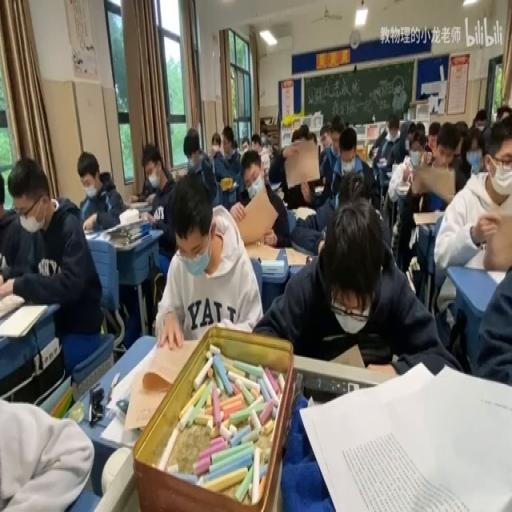calculator: (300, 358, 511, 510), (126, 333, 204, 428), (0, 304, 48, 340), (100, 408, 138, 450), (462, 242, 510, 274), (325, 342, 365, 368), (50, 386, 72, 420), (280, 245, 310, 266), (365, 362, 397, 378), (259, 256, 286, 274), (411, 209, 440, 225), (291, 206, 317, 222), (483, 268, 508, 284), (84, 227, 105, 239), (127, 199, 152, 209), (274, 186, 284, 200), (390, 162, 398, 176), (314, 184, 324, 194)
paper: (254, 188, 458, 384), (0, 156, 104, 372), (154, 170, 260, 348), (432, 116, 509, 322), (0, 381, 94, 509), (269, 127, 321, 209), (77, 151, 127, 230), (370, 115, 411, 209), (326, 127, 369, 206), (179, 128, 217, 206), (416, 125, 447, 212), (213, 122, 242, 202), (237, 136, 269, 205), (0, 168, 21, 267), (463, 128, 485, 164), (260, 128, 276, 158), (472, 108, 488, 130), (414, 122, 426, 148), (250, 132, 262, 154), (319, 129, 331, 151), (496, 104, 510, 121), (387, 119, 399, 138), (406, 124, 415, 148), (454, 120, 468, 135), (428, 121, 439, 138), (240, 134, 250, 152), (211, 134, 221, 152), (291, 130, 302, 142), (230, 136, 238, 150), (309, 130, 316, 144), (424, 136, 431, 150)
person: (306, 255, 312, 263)
